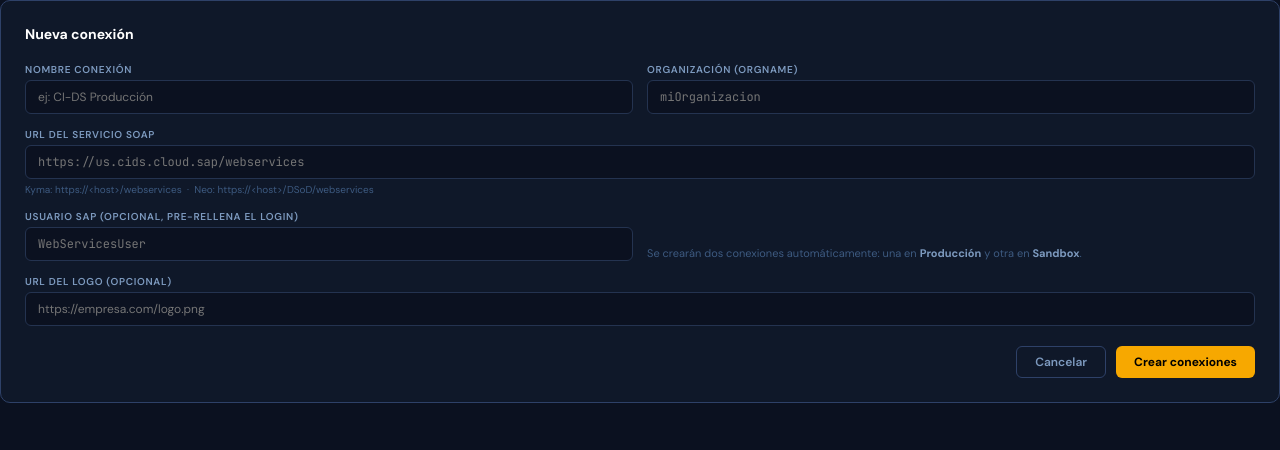
Scenario: ConnectionForm · validacion › exige la URL una vez que hay nombre
This screenshot has width=1280, height=450.
Type "Mi conexion" into the field with placeholder "ej: CI-DS Producción" at {"x": 329, "y": 97}, box [25,80,633,114]
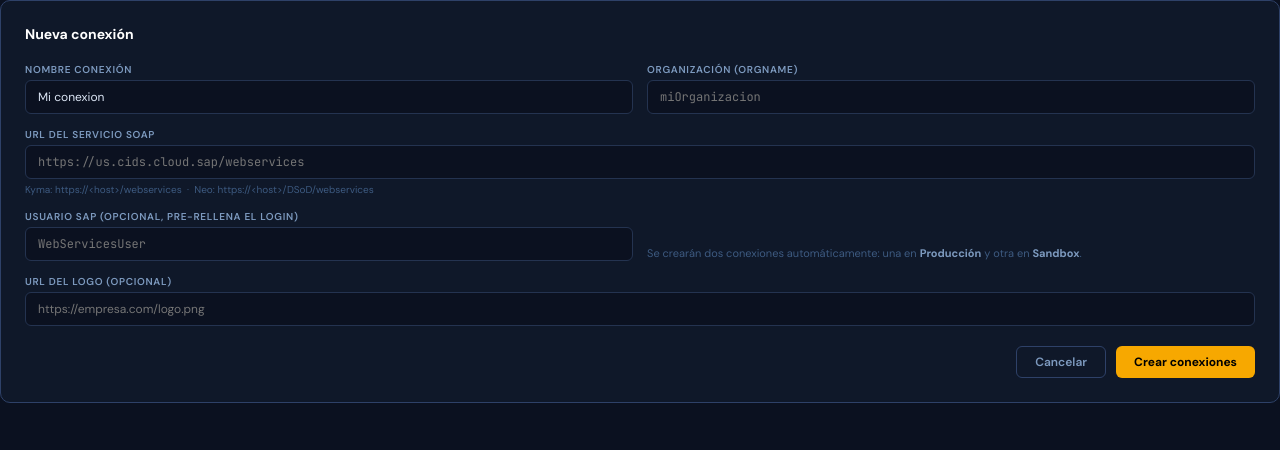
Click the button "Crear conexiones" at {"x": 1186, "y": 362}, box [1116,346,1255,378]
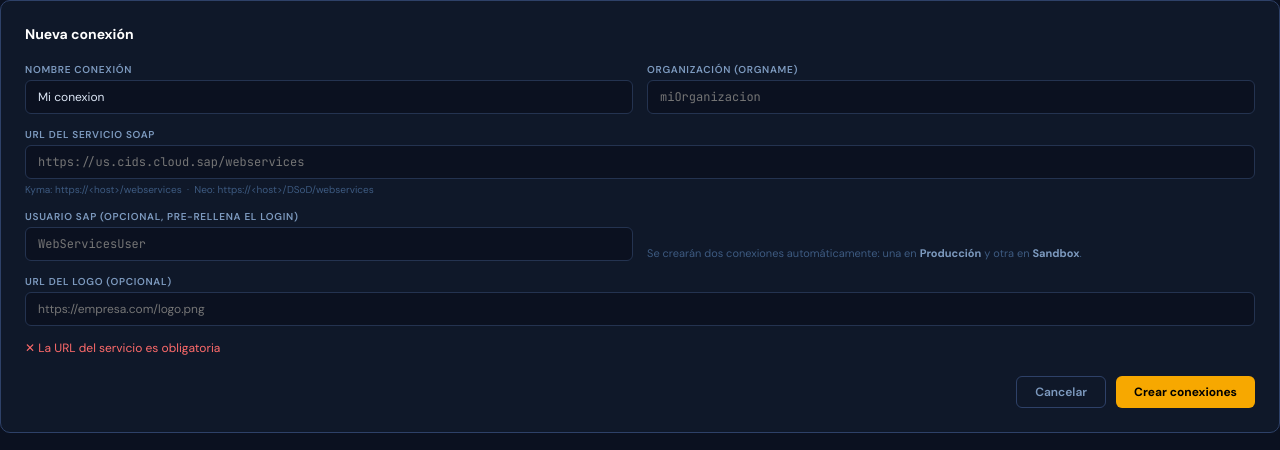
Result: the text "✕ La URL del servicio es obligatoria" is shown at [25,340,220,356]
